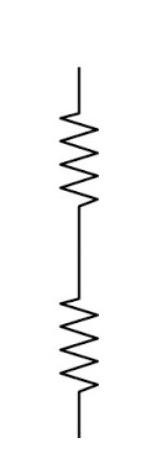resistor: (42, 277, 116, 416), (43, 75, 111, 219)
